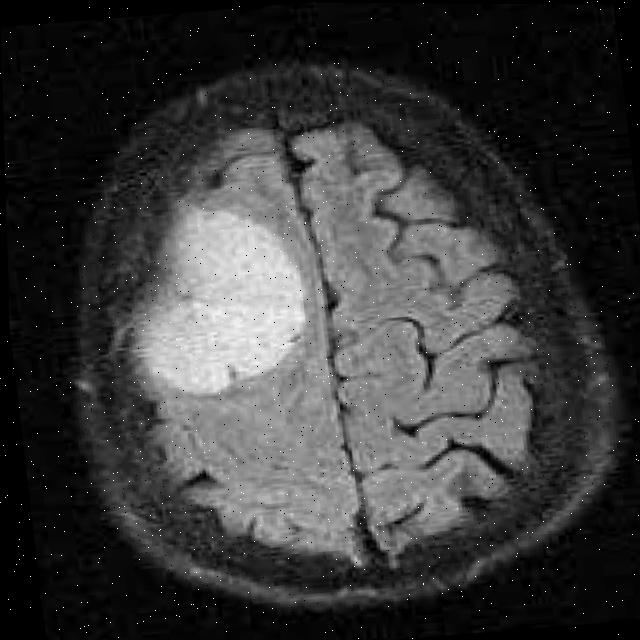Meningioma: (107, 186, 317, 403)
